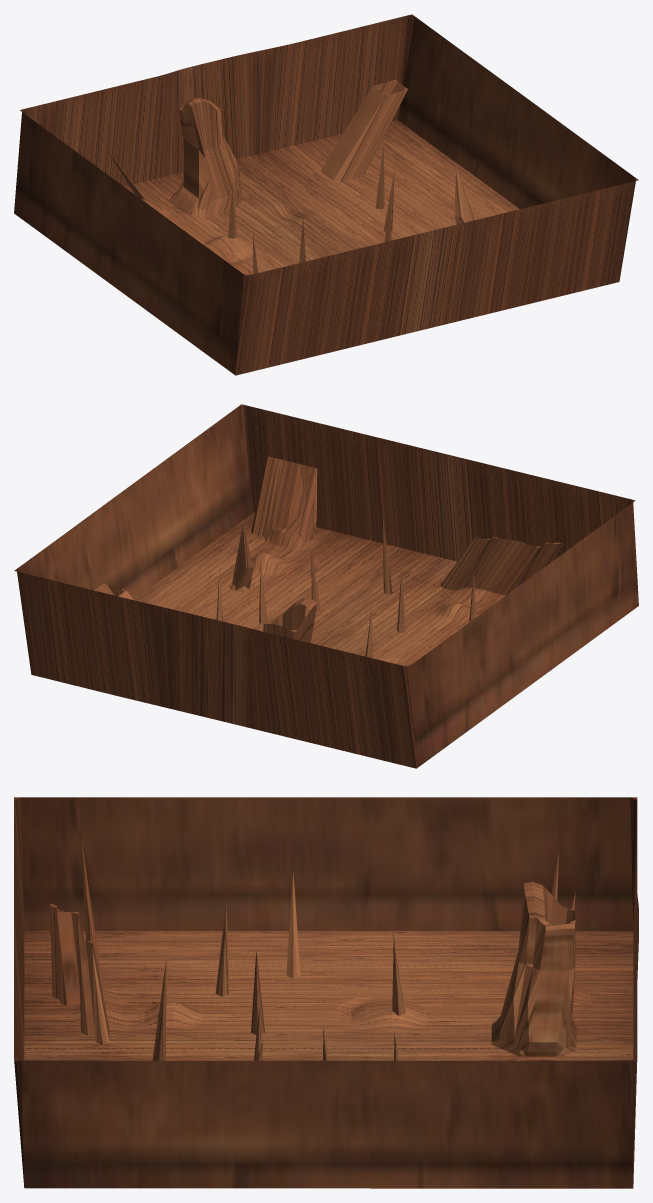
Rendered from mundo_irregular_madeira.dae.
3 renders of one model, top to bottom at view 1: azimuth 30°, elevation 25°; view 2: azimuth 150°, elevation 25°; view 3: azimuth 270°, elevation 25°, orthographic. The views are drawn at different scales.
Visible parts, largest first — view 1: Plane; view 2: Plane; view 3: Plane.
Part boxes in pixels (<box>): Plane: <box>14,14,638,375</box>; Plane: <box>14,404,638,768</box>; Plane: <box>14,797,638,1188</box>.
Size of the model in its own units: 53.69 by 52.91 by 14.08.
1 material, 1 textured.
